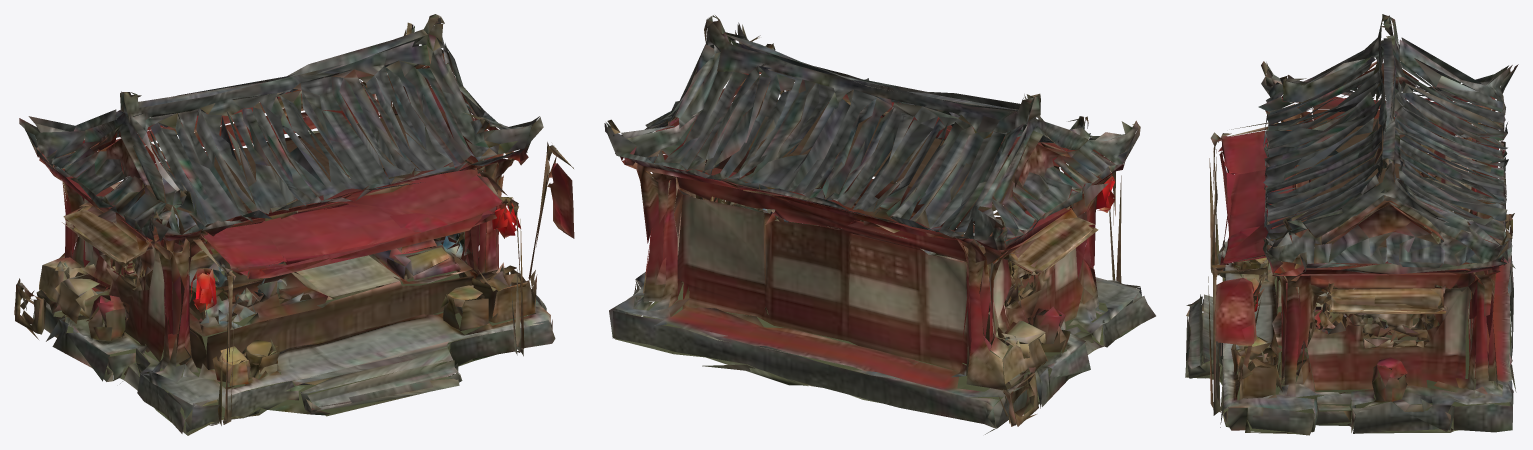
Rendered from loja_lod1.glb.
The picture shows the model from 3 angles, left to right: view 1: azimuth 30°, elevation 25°; view 2: azimuth 150°, elevation 25°; view 3: azimuth 270°, elevation 25°; orthographic projection. The views are drawn at different scales.
Parts seen in each view (by area): view 1: loja; view 2: loja; view 3: loja.
Part boxes in pixels (<box>): loja: <box>14,14,574,435</box>; loja: <box>604,15,1155,434</box>; loja: <box>1185,14,1518,435</box>.
Bounding box in the file's own units: 7.12 × 4.57 × 5.26.
1 material, 1 textured.
